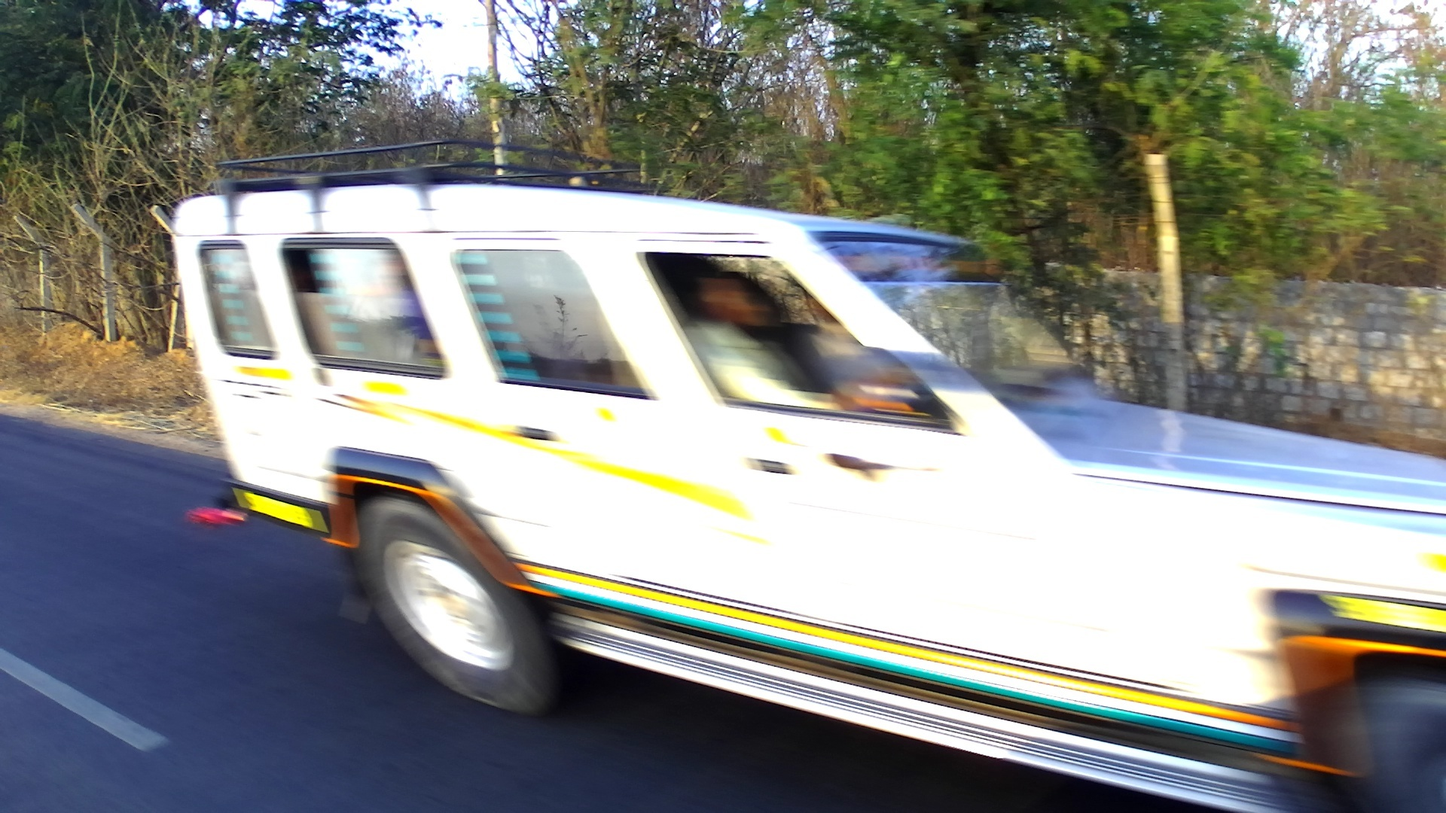car: (167, 132, 1446, 813)
